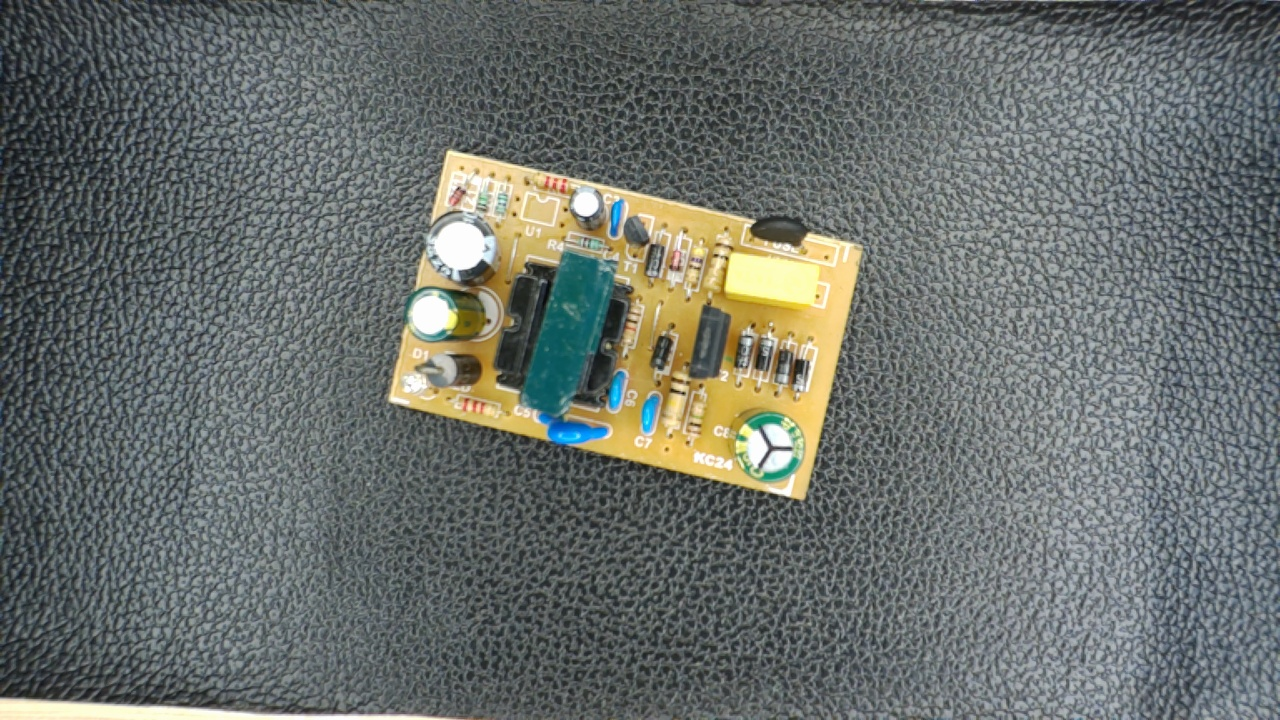fuse: (743, 210, 819, 257)
hv_capacitor: (726, 404, 809, 485)
mov: (530, 407, 612, 449)
